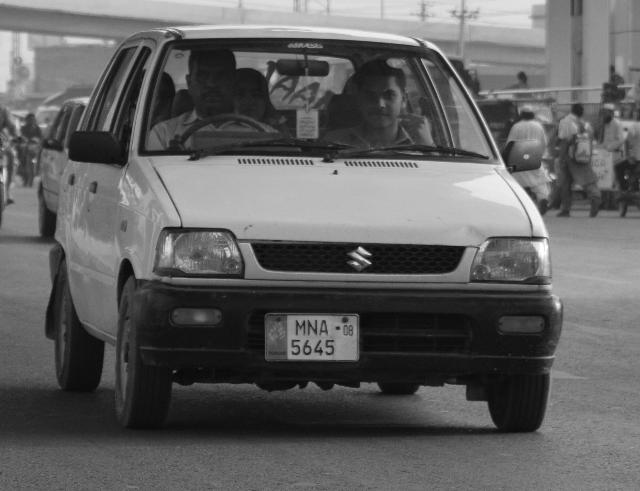Number: (288, 320, 338, 358)
